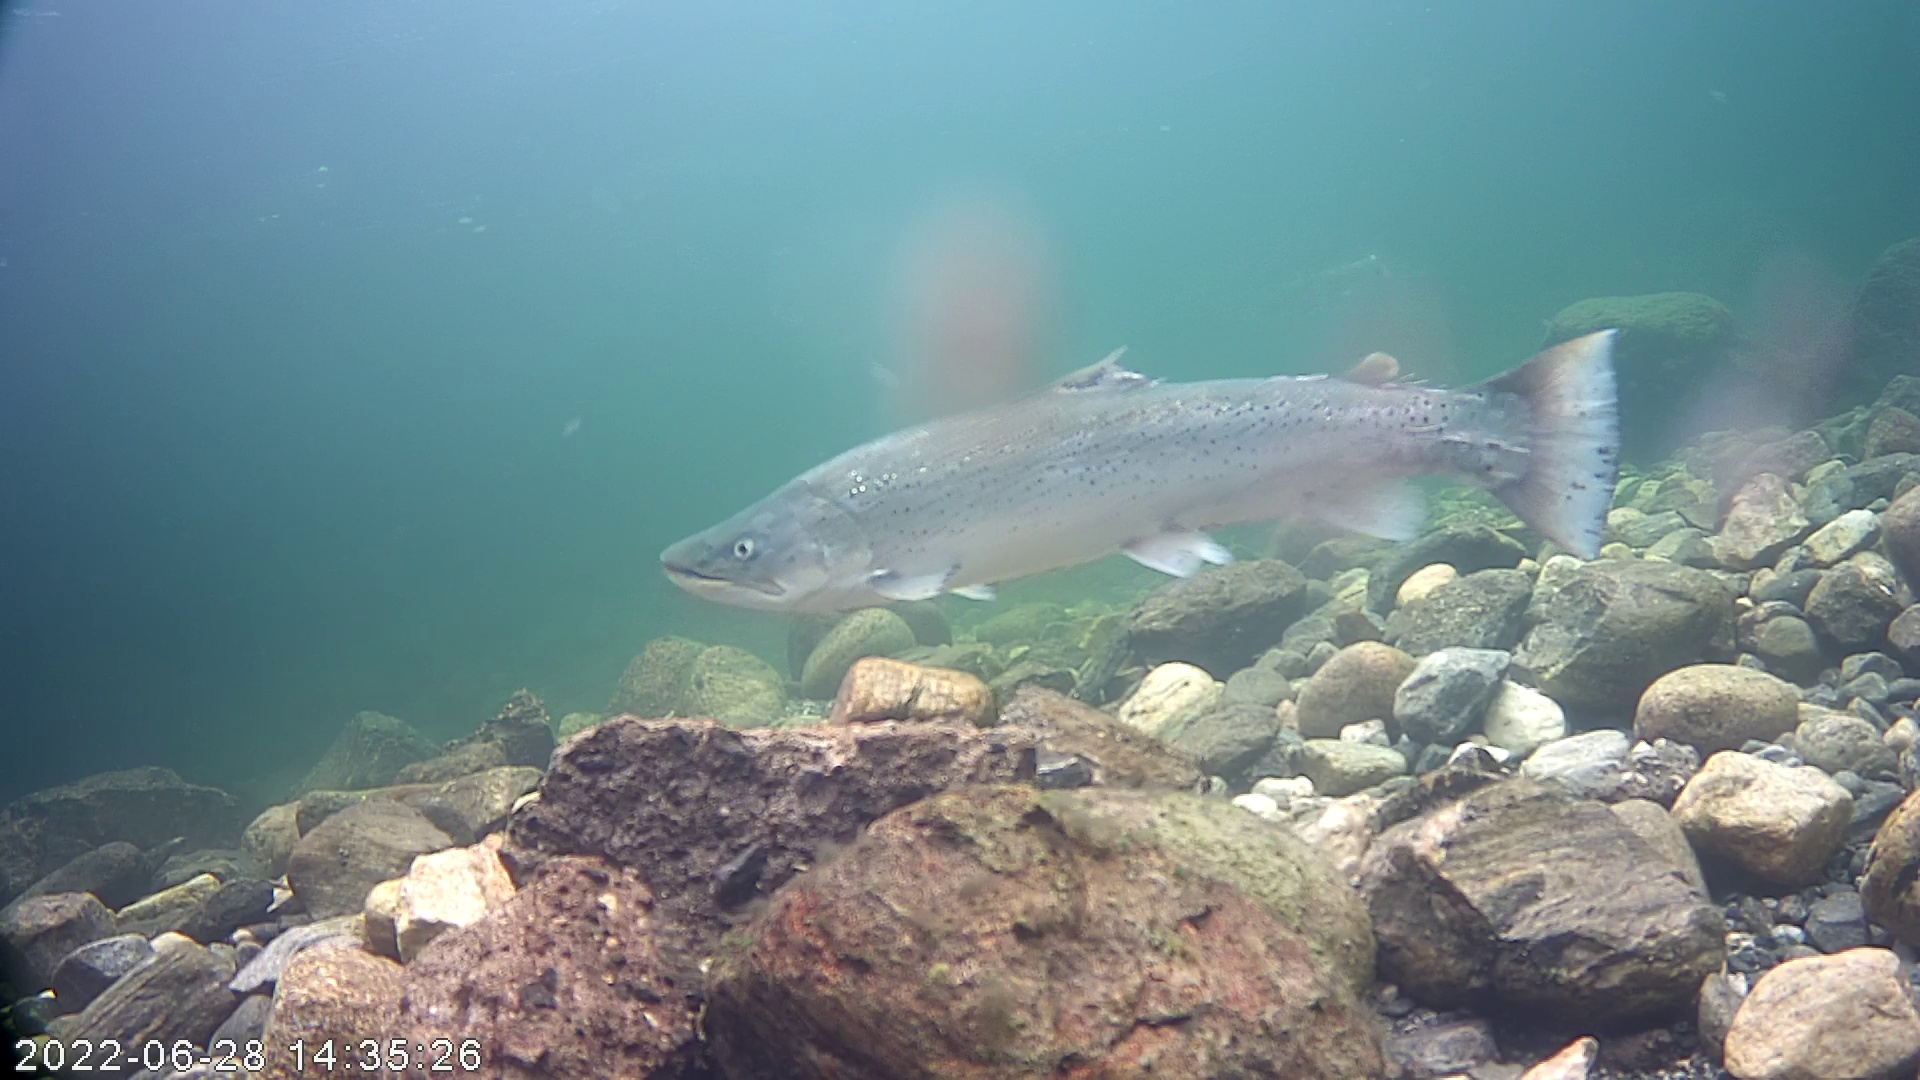salmon: (666, 223, 1662, 651)
